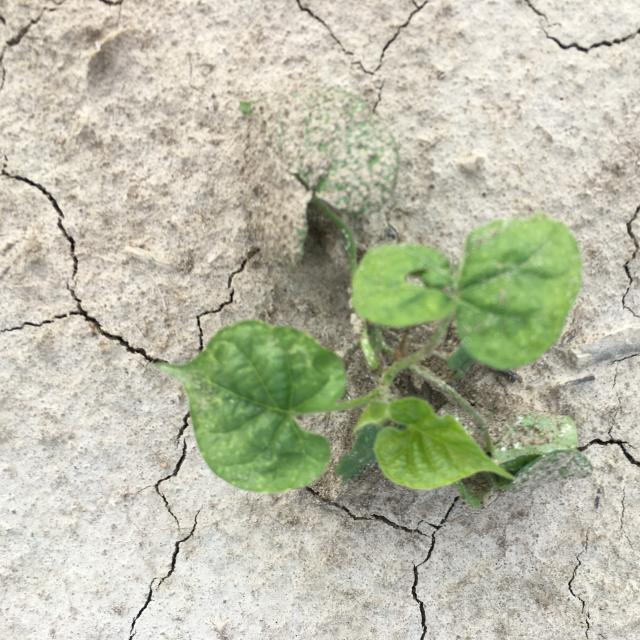MorningGlory: (152, 84, 595, 508)
